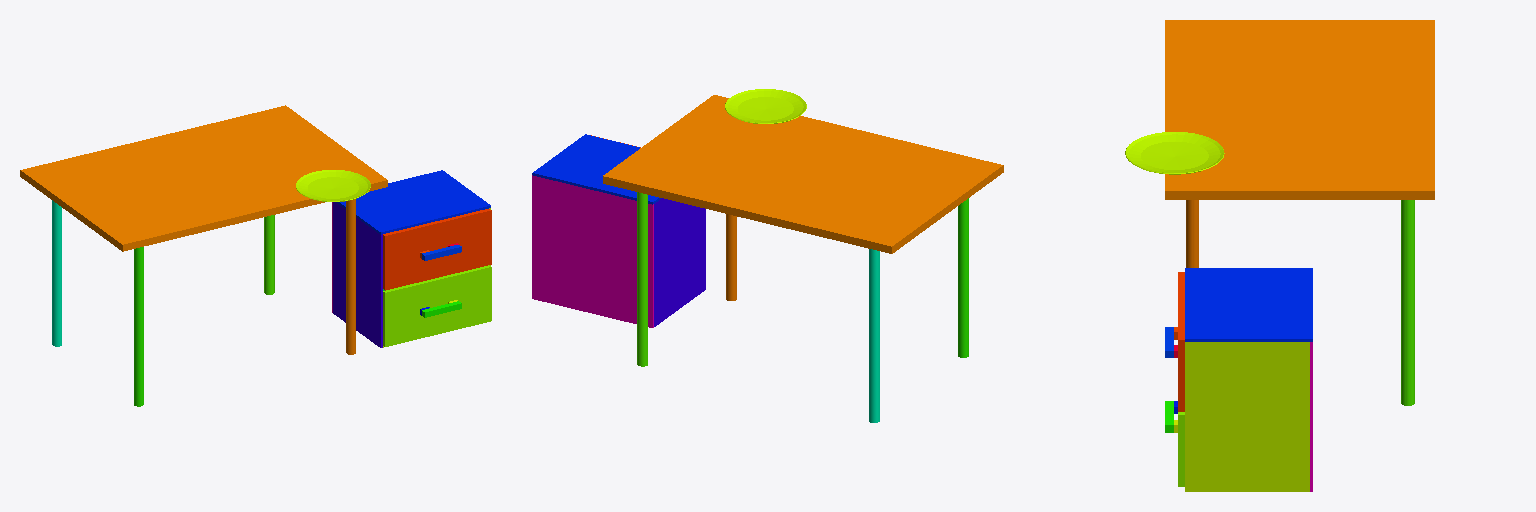
robot.urdf — Scene:
<?xml version='1.0' encoding='ASCII'?>
<robot name="Scene">
  <link name="table">
    <inertial>
      <origin xyz="-1.0040178028644521e-17 -6.693452019096347e-18 0.333375470187997" rpy="0.0 -0.0 0.0"/>
      <mass value="0.0323959048154013"/>
      <inertia ixx="1.0" ixy="0.0" ixz="0.0" iyy="1.0" iyz="0.0" izz="1.0"/>
    </inertial>
    <visual name="table_leg_0">
      <geometry>
        <cylinder radius="0.02" length="0.72"/>
      </geometry>
      <origin xyz="0.48 0.32000000000000006 0.0" rpy="0.0 -0.0 0.0"/>
      <material name="table_leg_0_main_color">
        <color rgba="0.35294117647058826 0.9882352941176471 0.00784313725490196 1.0"/>
      </material>
    </visual>
    <visual name="table_leg_1">
      <geometry>
        <cylinder radius="0.02" length="0.72"/>
      </geometry>
      <origin xyz="0.48 -0.32000000000000006 0.0" rpy="0.0 -0.0 0.0"/>
      <material name="table_leg_1_main_color">
        <color rgba="0.9882352941176471 0.5333333333333333 0.00784313725490196 1.0"/>
      </material>
    </visual>
    <visual name="table_leg_2">
      <geometry>
        <cylinder radius="0.02" length="0.72"/>
      </geometry>
      <origin xyz="-0.48 0.32000000000000006 0.0" rpy="0.0 -0.0 0.0"/>
      <material name="table_leg_2_main_color">
        <color rgba="0.00784313725490196 0.9882352941176471 0.7450980392156863 1.0"/>
      </material>
    </visual>
    <visual name="table_leg_3">
      <geometry>
        <cylinder radius="0.02" length="0.72"/>
      </geometry>
      <origin xyz="-0.48 -0.32000000000000006 0.0" rpy="0.0 -0.0 0.0"/>
      <material name="table_leg_3_main_color">
        <color rgba="0.20784313725490197 0.9882352941176471 0.00784313725490196 1.0"/>
      </material>
    </visual>
    <visual name="table_top">
      <geometry>
        <box size="1.2 0.8 0.03"/>
      </geometry>
      <origin xyz="0.0 0.0 0.375" rpy="0.0 -0.0 0.0"/>
      <material name="table_top_main_color">
        <color rgba="0.9882352941176471 0.5529411764705883 0.00784313725490196 1.0"/>
      </material>
    </visual>
    <collision name="table_leg_0">
      <geometry>
        <cylinder radius="0.02" length="0.72"/>
      </geometry>
      <origin xyz="0.48 0.32000000000000006 0.0" rpy="0.0 -0.0 0.0"/>
    </collision>
    <collision name="table_leg_1">
      <geometry>
        <cylinder radius="0.02" length="0.72"/>
      </geometry>
      <origin xyz="0.48 -0.32000000000000006 0.0" rpy="0.0 -0.0 0.0"/>
    </collision>
    <collision name="table_leg_2">
      <geometry>
        <cylinder radius="0.02" length="0.72"/>
      </geometry>
      <origin xyz="-0.48 0.32000000000000006 0.0" rpy="0.0 -0.0 0.0"/>
    </collision>
    <collision name="table_leg_3">
      <geometry>
        <cylinder radius="0.02" length="0.72"/>
      </geometry>
      <origin xyz="-0.48 -0.32000000000000006 0.0" rpy="0.0 -0.0 0.0"/>
    </collision>
    <collision name="table_top">
      <geometry>
        <box size="1.2 0.8 0.03"/>
      </geometry>
      <origin xyz="0.0 0.0 0.375" rpy="0.0 -0.0 0.0"/>
    </collision>
  </link>
  <link name="cabinet_corpus">
    <inertial>
      <origin xyz="0.0 0.0 0.0" rpy="0.0 -0.0 0.0"/>
      <mass value="0.011528"/>
      <inertia ixx="1.0" ixy="0.0" ixz="0.0" iyy="1.0" iyz="0.0" izz="1.0"/>
    </inertial>
    <visual name="cabinet_back">
      <geometry>
        <box size="0.5 0.01 0.49"/>
      </geometry>
      <origin xyz="0.0 0.195 0.245" rpy="0.0 -0.0 0.0"/>
      <material name="cabinet_back_main_color">
        <color rgba="0.9882352941176471 0.00784313725490196 0.7843137254901961 1.0"/>
      </material>
    </visual>
    <visual name="cabinet_left">
      <geometry>
        <box size="0.01 0.37 0.49"/>
      </geometry>
      <origin xyz="-0.245 0.005 0.245" rpy="0.0 -0.0 0.0"/>
      <material name="cabinet_left_main_color">
        <color rgba="0.26666666666666666 0.00784313725490196 0.9882352941176471 1.0"/>
      </material>
    </visual>
    <visual name="cabinet_right">
      <geometry>
        <box size="0.01 0.37 0.49"/>
      </geometry>
      <origin xyz="0.245 0.005 0.245" rpy="0.0 -0.0 0.0"/>
      <material name="cabinet_right_main_color">
        <color rgba="0.796078431372549 0.9882352941176471 0.00784313725490196 1.0"/>
      </material>
    </visual>
    <visual name="cabinet_surface_0_0">
      <geometry>
        <box size="0.48 0.37 0.01"/>
      </geometry>
      <origin xyz="0.0 0.005 0.25" rpy="0.0 -0.0 0.0"/>
      <material name="cabinet_surface_0_0_main_color">
        <color rgba="0.00784313725490196 0.9882352941176471 0.2196078431372549 1.0"/>
      </material>
    </visual>
    <visual name="cabinet_surface_0_1">
      <geometry>
        <box size="0.48 0.37 0.01"/>
      </geometry>
      <origin xyz="0.0 0.005 0.005000000000000009" rpy="0.0 -0.0 0.0"/>
      <material name="cabinet_surface_0_1_main_color">
        <color rgba="0.7843137254901961 0.9882352941176471 0.00784313725490196 1.0"/>
      </material>
    </visual>
    <visual name="cabinet_top">
      <geometry>
        <box size="0.5 0.38 0.01"/>
      </geometry>
      <origin xyz="0.0 0.01 0.495" rpy="0.0 -0.0 0.0"/>
      <material name="cabinet_top_main_color">
        <color rgba="0.00784313725490196 0.20784313725490197 0.9882352941176471 1.0"/>
      </material>
    </visual>
    <collision name="cabinet_back">
      <geometry>
        <box size="0.5 0.01 0.49"/>
      </geometry>
      <origin xyz="0.0 0.195 0.245" rpy="0.0 -0.0 0.0"/>
    </collision>
    <collision name="cabinet_left">
      <geometry>
        <box size="0.01 0.37 0.49"/>
      </geometry>
      <origin xyz="-0.245 0.005 0.245" rpy="0.0 -0.0 0.0"/>
    </collision>
    <collision name="cabinet_right">
      <geometry>
        <box size="0.01 0.37 0.49"/>
      </geometry>
      <origin xyz="0.245 0.005 0.245" rpy="0.0 -0.0 0.0"/>
    </collision>
    <collision name="cabinet_surface_0_0">
      <geometry>
        <box size="0.48 0.37 0.01"/>
      </geometry>
      <origin xyz="0.0 0.005 0.25" rpy="0.0 -0.0 0.0"/>
    </collision>
    <collision name="cabinet_surface_0_1">
      <geometry>
        <box size="0.48 0.37 0.01"/>
      </geometry>
      <origin xyz="0.0 0.005 0.005000000000000009" rpy="0.0 -0.0 0.0"/>
    </collision>
    <collision name="cabinet_top">
      <geometry>
        <box size="0.5 0.38 0.01"/>
      </geometry>
      <origin xyz="0.0 0.01 0.495" rpy="0.0 -0.0 0.0"/>
    </collision>
  </link>
  <link name="cabinet_drawer_0_0">
    <inertial>
      <origin xyz="0.0 0.0 0.0" rpy="0.0 -0.0 0.0"/>
      <mass value="0.1"/>
      <inertia ixx="1.0" ixy="0.0" ixz="0.0" iyy="1.0" iyz="0.0" izz="1.0"/>
    </inertial>
    <visual name="cabinet_drawer_0_0_board_0">
      <geometry>
        <box size="0.48 0.02 0.235"/>
      </geometry>
      <origin xyz="0.0 0.0 0.0" rpy="0.0 -0.0 0.0"/>
      <material name="cabinet_drawer_0_0_board_0_main_color">
        <color rgba="0.9882352941176471 0.2784313725490196 0.00784313725490196 1.0"/>
      </material>
    </visual>
    <visual name="cabinet_drawer_0_0_board_1">
      <geometry>
        <box size="0.45999999999999996 0.326 0.005"/>
      </geometry>
      <origin xyz="0.0 0.17300000000000001 -0.10999999999999999" rpy="0.0 -0.0 0.0"/>
      <material name="cabinet_drawer_0_0_board_1_main_color">
        <color rgba="0.00784313725490196 0.9882352941176471 0.4 1.0"/>
      </material>
    </visual>
    <visual name="cabinet_drawer_0_0_board_2">
      <geometry>
        <box size="0.005 0.326 0.22499999999999998"/>
      </geometry>
      <origin xyz="-0.23249999999999998 0.17300000000000001 0.0" rpy="0.0 -0.0 0.0"/>
      <material name="cabinet_drawer_0_0_board_2_main_color">
        <color rgba="0.9882352941176471 0.2627450980392157 0.00784313725490196 1.0"/>
      </material>
    </visual>
    <visual name="cabinet_drawer_0_0_board_3">
      <geometry>
        <box size="0.005 0.326 0.22499999999999998"/>
      </geometry>
      <origin xyz="0.23249999999999998 0.17300000000000001 0.0" rpy="0.0 -0.0 0.0"/>
      <material name="cabinet_drawer_0_0_board_3_main_color">
        <color rgba="0.8274509803921568 0.9882352941176471 0.00784313725490196 1.0"/>
      </material>
    </visual>
    <visual name="cabinet_drawer_0_0_board_4">
      <geometry>
        <box size="0.47 0.005 0.22499999999999998"/>
      </geometry>
      <origin xyz="0.0 0.3385 0.0" rpy="0.0 -0.0 0.0"/>
      <material name="cabinet_drawer_0_0_board_4_main_color">
        <color rgba="0.00784313725490196 0.5647058823529412 0.9882352941176471 1.0"/>
      </material>
    </visual>
    <visual name="cabinet_drawer_0_0_handle_part_0">
      <geometry>
        <box size="0.024 0.1682 0.024"/>
      </geometry>
      <origin xyz="-9.748438587302075e-35 -0.036 1.5920408388915591e-18" rpy="3.141592653589793 6.123233995736766e-17 1.5707963267948966"/>
      <material name="cabinet_drawer_0_0_handle_part_0_main_color">
        <color rgba="0.00784313725490196 0.28627450980392155 0.9882352941176471 1.0"/>
      </material>
    </visual>
    <visual name="cabinet_drawer_0_0_handle_part_1">
      <geometry>
        <box size="0.013999999999999999 0.04 0.024"/>
      </geometry>
      <origin xyz="-0.06409999999999999 -0.017 -7.421359602832959e-18" rpy="3.141592653589793 6.123233995736766e-17 1.5707963267948966"/>
      <material name="cabinet_drawer_0_0_handle_part_1_main_color">
        <color rgba="0.9882352941176471 0.3137254901960784 0.00784313725490196 1.0"/>
      </material>
    </visual>
    <visual name="cabinet_drawer_0_0_handle_part_2">
      <geometry>
        <box size="0.013999999999999999 0.04 0.024"/>
      </geometry>
      <origin xyz="0.06409999999999999 -0.017 8.278612362236106e-18" rpy="3.141592653589793 6.123233995736766e-17 1.5707963267948966"/>
      <material name="cabinet_drawer_0_0_handle_part_2_main_color">
        <color rgba="0.9882352941176471 0.00784313725490196 0.24313725490196078 1.0"/>
      </material>
    </visual>
    <collision name="cabinet_drawer_0_0_board_0">
      <geometry>
        <box size="0.48 0.02 0.235"/>
      </geometry>
      <origin xyz="0.0 0.0 0.0" rpy="0.0 -0.0 0.0"/>
    </collision>
    <collision name="cabinet_drawer_0_0_board_1">
      <geometry>
        <box size="0.45999999999999996 0.326 0.005"/>
      </geometry>
      <origin xyz="0.0 0.17300000000000001 -0.10999999999999999" rpy="0.0 -0.0 0.0"/>
    </collision>
    <collision name="cabinet_drawer_0_0_board_2">
      <geometry>
        <box size="0.005 0.326 0.22499999999999998"/>
      </geometry>
      <origin xyz="-0.23249999999999998 0.17300000000000001 0.0" rpy="0.0 -0.0 0.0"/>
    </collision>
    <collision name="cabinet_drawer_0_0_board_3">
      <geometry>
        <box size="0.005 0.326 0.22499999999999998"/>
      </geometry>
      <origin xyz="0.23249999999999998 0.17300000000000001 0.0" rpy="0.0 -0.0 0.0"/>
    </collision>
    <collision name="cabinet_drawer_0_0_board_4">
      <geometry>
        <box size="0.47 0.005 0.22499999999999998"/>
      </geometry>
      <origin xyz="0.0 0.3385 0.0" rpy="0.0 -0.0 0.0"/>
    </collision>
    <collision name="cabinet_drawer_0_0_handle_part_0">
      <geometry>
        <box size="0.024 0.1682 0.024"/>
      </geometry>
      <origin xyz="-9.748438587302075e-35 -0.036 1.5920408388915591e-18" rpy="3.141592653589793 6.123233995736766e-17 1.5707963267948966"/>
    </collision>
    <collision name="cabinet_drawer_0_0_handle_part_1">
      <geometry>
        <box size="0.013999999999999999 0.04 0.024"/>
      </geometry>
      <origin xyz="-0.06409999999999999 -0.017 -7.421359602832959e-18" rpy="3.141592653589793 6.123233995736766e-17 1.5707963267948966"/>
    </collision>
    <collision name="cabinet_drawer_0_0_handle_part_2">
      <geometry>
        <box size="0.013999999999999999 0.04 0.024"/>
      </geometry>
      <origin xyz="0.06409999999999999 -0.017 8.278612362236106e-18" rpy="3.141592653589793 6.123233995736766e-17 1.5707963267948966"/>
    </collision>
  </link>
  <link name="cabinet_drawer_0_1">
    <inertial>
      <origin xyz="0.0 0.0 0.0" rpy="0.0 -0.0 0.0"/>
      <mass value="0.1"/>
      <inertia ixx="1.0" ixy="0.0" ixz="0.0" iyy="1.0" iyz="0.0" izz="1.0"/>
    </inertial>
    <visual name="cabinet_drawer_0_1_board_0">
      <geometry>
        <box size="0.48 0.02 0.235"/>
      </geometry>
      <origin xyz="0.0 0.0 0.0" rpy="0.0 -0.0 0.0"/>
      <material name="cabinet_drawer_0_1_board_0_main_color">
        <color rgba="0.5882352941176471 0.9882352941176471 0.00784313725490196 1.0"/>
      </material>
    </visual>
    <visual name="cabinet_drawer_0_1_board_1">
      <geometry>
        <box size="0.45999999999999996 0.326 0.005"/>
      </geometry>
      <origin xyz="0.0 0.17300000000000001 -0.10999999999999999" rpy="0.0 -0.0 0.0"/>
      <material name="cabinet_drawer_0_1_board_1_main_color">
        <color rgba="0.00784313725490196 0.9882352941176471 0.5490196078431373 1.0"/>
      </material>
    </visual>
    <visual name="cabinet_drawer_0_1_board_2">
      <geometry>
        <box size="0.005 0.326 0.22499999999999998"/>
      </geometry>
      <origin xyz="-0.23249999999999998 0.17300000000000001 0.0" rpy="0.0 -0.0 0.0"/>
      <material name="cabinet_drawer_0_1_board_2_main_color">
        <color rgba="0.9882352941176471 0.050980392156862744 0.00784313725490196 1.0"/>
      </material>
    </visual>
    <visual name="cabinet_drawer_0_1_board_3">
      <geometry>
        <box size="0.005 0.326 0.22499999999999998"/>
      </geometry>
      <origin xyz="0.23249999999999998 0.17300000000000001 0.0" rpy="0.0 -0.0 0.0"/>
      <material name="cabinet_drawer_0_1_board_3_main_color">
        <color rgba="0.40784313725490196 0.9882352941176471 0.00784313725490196 1.0"/>
      </material>
    </visual>
    <visual name="cabinet_drawer_0_1_board_4">
      <geometry>
        <box size="0.47 0.005 0.22499999999999998"/>
      </geometry>
      <origin xyz="0.0 0.3385 0.0" rpy="0.0 -0.0 0.0"/>
      <material name="cabinet_drawer_0_1_board_4_main_color">
        <color rgba="0.00784313725490196 0.9882352941176471 0.6078431372549019 1.0"/>
      </material>
    </visual>
    <visual name="cabinet_drawer_0_1_handle_part_0">
      <geometry>
        <box size="0.024 0.1682 0.024"/>
      </geometry>
      <origin xyz="-9.748438587302075e-35 -0.036 1.5920408388915591e-18" rpy="3.141592653589793 6.123233995736766e-17 1.5707963267948966"/>
      <material name="cabinet_drawer_0_1_handle_part_0_main_color">
        <color rgba="0.13333333333333333 0.9882352941176471 0.00784313725490196 1.0"/>
      </material>
    </visual>
    <visual name="cabinet_drawer_0_1_handle_part_1">
      <geometry>
        <box size="0.013999999999999999 0.04 0.024"/>
      </geometry>
      <origin xyz="-0.06409999999999999 -0.017 -7.421359602832959e-18" rpy="3.141592653589793 6.123233995736766e-17 1.5707963267948966"/>
      <material name="cabinet_drawer_0_1_handle_part_1_main_color">
        <color rgba="0.00784313725490196 0.13725490196078433 0.9882352941176471 1.0"/>
      </material>
    </visual>
    <visual name="cabinet_drawer_0_1_handle_part_2">
      <geometry>
        <box size="0.013999999999999999 0.04 0.024"/>
      </geometry>
      <origin xyz="0.06409999999999999 -0.017 8.278612362236106e-18" rpy="3.141592653589793 6.123233995736766e-17 1.5707963267948966"/>
      <material name="cabinet_drawer_0_1_handle_part_2_main_color">
        <color rgba="0.8627450980392157 0.9882352941176471 0.00784313725490196 1.0"/>
      </material>
    </visual>
    <collision name="cabinet_drawer_0_1_board_0">
      <geometry>
        <box size="0.48 0.02 0.235"/>
      </geometry>
      <origin xyz="0.0 0.0 0.0" rpy="0.0 -0.0 0.0"/>
    </collision>
    <collision name="cabinet_drawer_0_1_board_1">
      <geometry>
        <box size="0.45999999999999996 0.326 0.005"/>
      </geometry>
      <origin xyz="0.0 0.17300000000000001 -0.10999999999999999" rpy="0.0 -0.0 0.0"/>
    </collision>
    <collision name="cabinet_drawer_0_1_board_2">
      <geometry>
        <box size="0.005 0.326 0.22499999999999998"/>
      </geometry>
      <origin xyz="-0.23249999999999998 0.17300000000000001 0.0" rpy="0.0 -0.0 0.0"/>
    </collision>
    <collision name="cabinet_drawer_0_1_board_3">
      <geometry>
        <box size="0.005 0.326 0.22499999999999998"/>
      </geometry>
      <origin xyz="0.23249999999999998 0.17300000000000001 0.0" rpy="0.0 -0.0 0.0"/>
    </collision>
    <collision name="cabinet_drawer_0_1_board_4">
      <geometry>
        <box size="0.47 0.005 0.22499999999999998"/>
      </geometry>
      <origin xyz="0.0 0.3385 0.0" rpy="0.0 -0.0 0.0"/>
    </collision>
    <collision name="cabinet_drawer_0_1_handle_part_0">
      <geometry>
        <box size="0.024 0.1682 0.024"/>
      </geometry>
      <origin xyz="-9.748438587302075e-35 -0.036 1.5920408388915591e-18" rpy="3.141592653589793 6.123233995736766e-17 1.5707963267948966"/>
    </collision>
    <collision name="cabinet_drawer_0_1_handle_part_1">
      <geometry>
        <box size="0.013999999999999999 0.04 0.024"/>
      </geometry>
      <origin xyz="-0.06409999999999999 -0.017 -7.421359602832959e-18" rpy="3.141592653589793 6.123233995736766e-17 1.5707963267948966"/>
    </collision>
    <collision name="cabinet_drawer_0_1_handle_part_2">
      <geometry>
        <box size="0.013999999999999999 0.04 0.024"/>
      </geometry>
      <origin xyz="0.06409999999999999 -0.017 8.278612362236106e-18" rpy="3.141592653589793 6.123233995736766e-17 1.5707963267948966"/>
    </collision>
  </link>
  <link name="chair.obj">
    <inertial>
      <origin xyz="-0.06681497121180885 -0.003705758106870265 -0.24775203672720017" rpy="0.0 -0.0 0.0"/>
      <mass value="0.12060617679220981"/>
      <inertia ixx="1.0" ixy="0.0" ixz="0.0" iyy="1.0" iyz="0.0" izz="1.0"/>
    </inertial>
    <visual name="chair.obj_chair.obj">
      <geometry>
        <mesh filename="textures/chair.obj" scale="1.0000000000000004 1.0000000000000004 1.0000000000000004"/>
      </geometry>
      <origin xyz="0.0 0.0 0.0" rpy="0.0 -0.0 -1.5707963267948966"/>
      <material name="chair.obj_chair.obj_main_color">
        <color rgba="0.00784313725490196 0.9882352941176471 0.6666666666666666 1.0"/>
      </material>
    </visual>
    <collision name="chair.obj_chair.obj">
      <geometry>
        <mesh filename="textures/chair.obj" scale="1.0000000000000004 1.0000000000000004 1.0000000000000004"/>
      </geometry>
      <origin xyz="0.0 0.0 0.0" rpy="0.0 -0.0 -1.5707963267948966"/>
    </collision>
  </link>
  <link name="plate">
    <inertial>
      <origin xyz="5.263913116981696e-18 7.01855082264226e-18 0.007200117935468516" rpy="0.0 -0.0 0.0"/>
      <mass value="0.00032182634037849974"/>
      <inertia ixx="1.0" ixy="0.0" ixz="0.0" iyy="1.0" iyz="0.0" izz="1.0"/>
    </inertial>
    <visual name="plate_geometry_0">
      <geometry>
        <mesh filename="plate_geometry_0.obj"/>
      </geometry>
      <origin xyz="0.0 0.0 0.0" rpy="0.0 -0.0 0.0"/>
      <material name="plate_geometry_0_main_color">
        <color rgba="0.7607843137254902 0.9882352941176471 0.00784313725490196 1.0"/>
      </material>
    </visual>
    <collision name="plate_geometry_0">
      <geometry>
        <mesh filename="plate_geometry_0.obj"/>
      </geometry>
      <origin xyz="0.0 0.0 0.0" rpy="0.0 -0.0 0.0"/>
    </collision>
  </link>
  <link name="milk_0">
    <inertial>
      <origin xyz="0.00735915059386354 1.1541878484295157e-08 -0.31448500768989784" rpy="0.0 -0.0 0.0"/>
      <mass value="64.23169239014533"/>
      <inertia ixx="1.0" ixy="0.0" ixz="0.0" iyy="1.0" iyz="0.0" izz="1.0"/>
    </inertial>
    <visual name="milk_0_MilkCarton_MilkCartn_0">
      <geometry>
        <mesh filename="textures/milk_carton.glb" scale="0.0006451599844062329 0.0006451599844062329 0.0006451599844062329"/>
      </geometry>
      <origin xyz="-2.5757175084511028e-17 0.0 0.11600000411272049" rpy="4.440892098500626e-16 -0.0 -1.5707963267948966"/>
      <material name="milk_0_MilkCarton_MilkCartn_0_main_color">
        <color rgba="0.00784313725490196 0.9882352941176471 0.12549019607843137 1.0"/>
      </material>
    </visual>
    <collision name="milk_0_MilkCarton_MilkCartn_0">
      <geometry>
        <mesh filename="textures/milk_carton.glb" scale="0.0006451599844062329 0.0006451599844062329 0.0006451599844062329"/>
      </geometry>
      <origin xyz="-2.5757175084511028e-17 0.0 0.11600000411272049" rpy="4.440892098500626e-16 -0.0 -1.5707963267948966"/>
    </collision>
  </link>
  <link name="world"/>
  <link name="cabinet"/>
  <joint name="table_world_fixed_joint" type="fixed">
    <parent link="world"/>
    <child link="table"/>
    <origin xyz="0.0 0.0 0.0" rpy="0.0 -0.0 0.0"/>
  </joint>
  <joint name="cabinet_world_fixed_joint" type="fixed">
    <parent link="world"/>
    <child link="cabinet"/>
    <origin xyz="0.85 -0.162 -0.36" rpy="0.0 -0.0 0.0"/>
  </joint>
  <joint name="cabinet_corpus_to_drawer_0_0" type="prismatic">
    <parent link="cabinet_corpus"/>
    <child link="cabinet_drawer_0_0"/>
    <origin xyz="0.0 -0.19 0.3725" rpy="0.0 -0.0 0.0"/>
    <axis xyz="0 -1 0"/>
    <limit effort="1000.0" velocity="1.0" lower="0.0" upper="0.3159"/>
  </joint>
  <joint name="cabinet_corpus_to_drawer_0_1" type="prismatic">
    <parent link="cabinet_corpus"/>
    <child link="cabinet_drawer_0_1"/>
    <origin xyz="0.0 -0.19 0.1275" rpy="0.0 -0.0 0.0"/>
    <axis xyz="0 -1 0"/>
    <limit effort="1000.0" velocity="1.0" lower="0.0" upper="0.3159"/>
  </joint>
  <joint name="cabinet_origin_joint" type="fixed">
    <parent link="cabinet"/>
    <child link="cabinet_corpus"/>
    <origin xyz="0.0 0.0 0.0" rpy="0.0 -0.0 0.0"/>
  </joint>
  <joint name="chair.obj_world_fixed_joint" type="fixed">
    <parent link="world"/>
    <child link="chair.obj"/>
    <origin xyz="0.002477000000000007 -0.49283750000000004 0.271111" rpy="0.0 -0.0 0.0"/>
  </joint>
  <joint name="plate_table_top_floating_joint" type="floating">
    <parent link="table"/>
    <child link="plate"/>
    <origin xyz="0.3691705776727131 -0.37201478258184634 0.391" rpy="0.0 -0.0 0.7671653642980841"/>
  </joint>
  <joint name="milk_0_table_top_floating_joint" type="floating">
    <parent link="table"/>
    <child link="milk_0"/>
    <origin xyz="-0.10960850496259444 0.09978531332933477 0.391" rpy="0.0 -0.0 2.9704714228207107"/>
  </joint>
</robot>

--- Render facts (derived) ---
3 views of the same robot in one strip: view 1: azimuth 30°, elevation 25°; view 2: azimuth 150°, elevation 25°; view 3: azimuth 270°, elevation 25° (orthographic).
Robot: Scene — 9 links, 8 joints (2 prismatic, 4 fixed, 2 floating); root link world; default pose: all joints at 0.
Links seen in each view (by area): view 1: table, cabinet_corpus, cabinet_drawer_0_0, cabinet_drawer_0_1, plate; view 2: table, cabinet_corpus, plate; view 3: table, cabinet_corpus, plate, cabinet_drawer_0_0, cabinet_drawer_0_1.
Boxes of the visible links, x1,y1,x2,y2 form: table: [20, 105, 387, 406]; cabinet_corpus: [332, 170, 490, 347]; cabinet_drawer_0_0: [383, 209, 491, 290]; cabinet_drawer_0_1: [383, 265, 491, 346]; plate: [296, 170, 370, 201]; table: [603, 95, 1003, 422]; cabinet_corpus: [532, 134, 705, 327]; plate: [725, 89, 806, 123]; table: [1165, 20, 1434, 405]; cabinet_corpus: [1185, 268, 1312, 491]; plate: [1125, 132, 1224, 174]; cabinet_drawer_0_0: [1165, 272, 1184, 411]; cabinet_drawer_0_1: [1165, 401, 1184, 486].
Size in the robot's own frame: 1.7 by 0.9199 by 0.7695 metres.
Meshes: 3 distinct files referenced, 1 mesh visuals loaded (1 OBJ); not drawn: 2 (reference not matched to a file when rendering).
